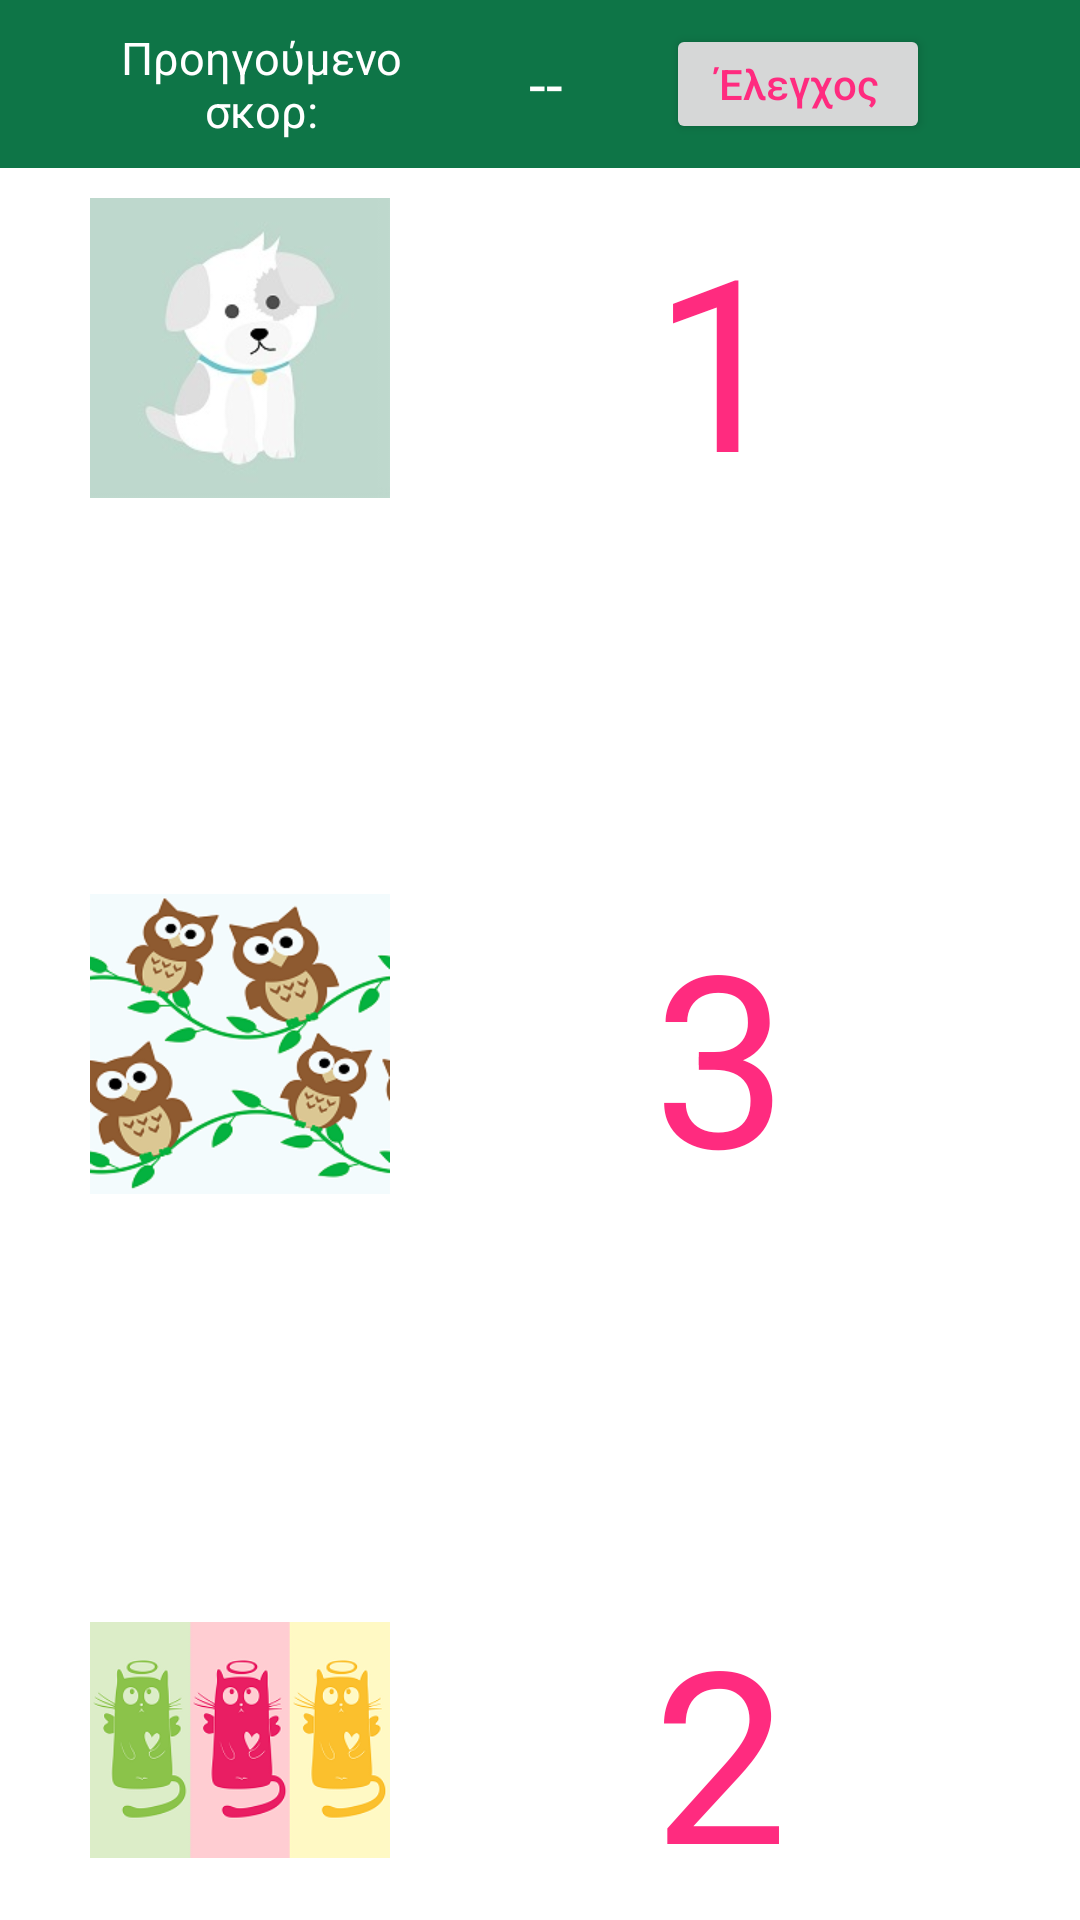

Icons on this 1080*1920 Android screen, each with the point to tap as (x,y):
dragcat: (240,1740)
dragdog: (240,348)
dragowl: (240,1044)
